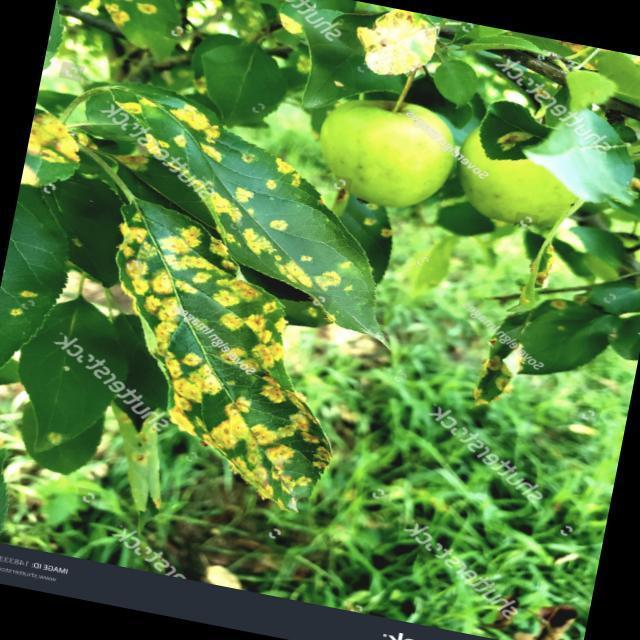Mosaic Virus: (6, 77, 388, 492)
